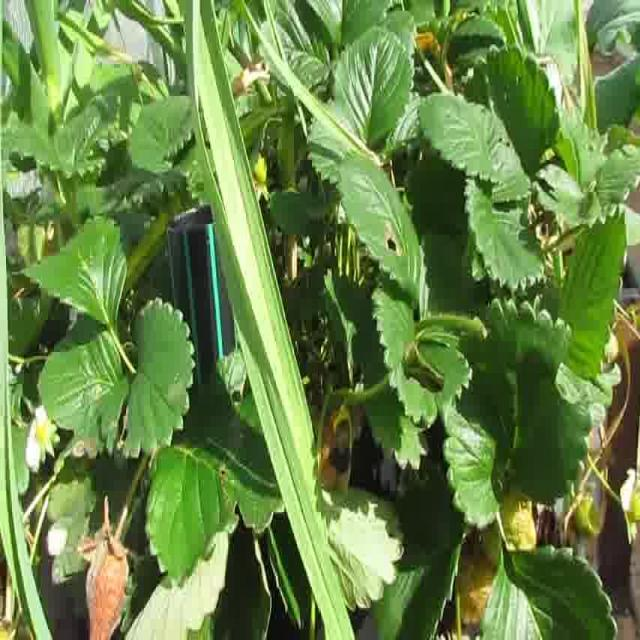Moho gris: (74, 532, 128, 638)
